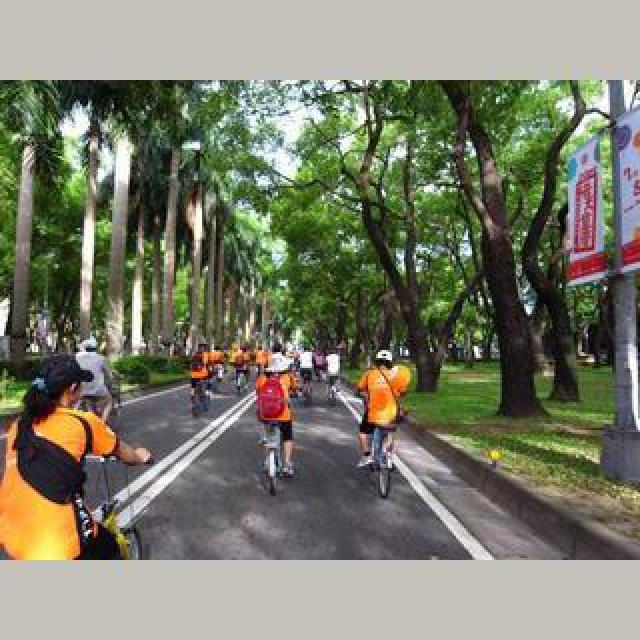MC-Bike: (4, 350, 156, 556), (356, 350, 412, 468), (254, 362, 298, 478), (74, 338, 114, 420), (190, 348, 214, 412), (234, 346, 250, 392), (298, 348, 316, 384), (312, 348, 328, 382)
Person: (72, 454, 154, 560), (366, 414, 400, 498), (258, 426, 284, 496), (190, 378, 212, 418)
